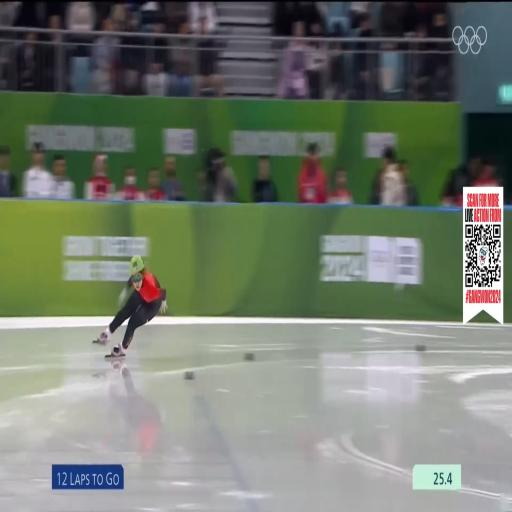Skater: (94, 256, 166, 357)
